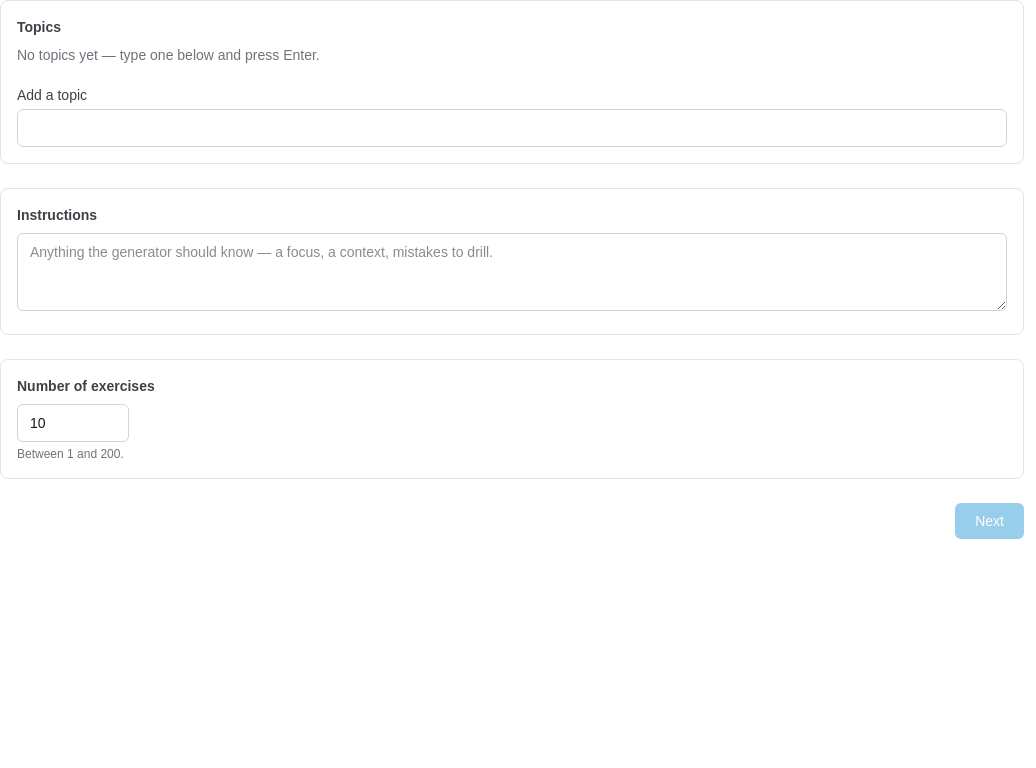
Scenario: WizardWhat › enables next once instructions are typed
Type "focus on dative" into the text box labelled "Instructions" at (512, 272), box [17, 233, 1007, 311]
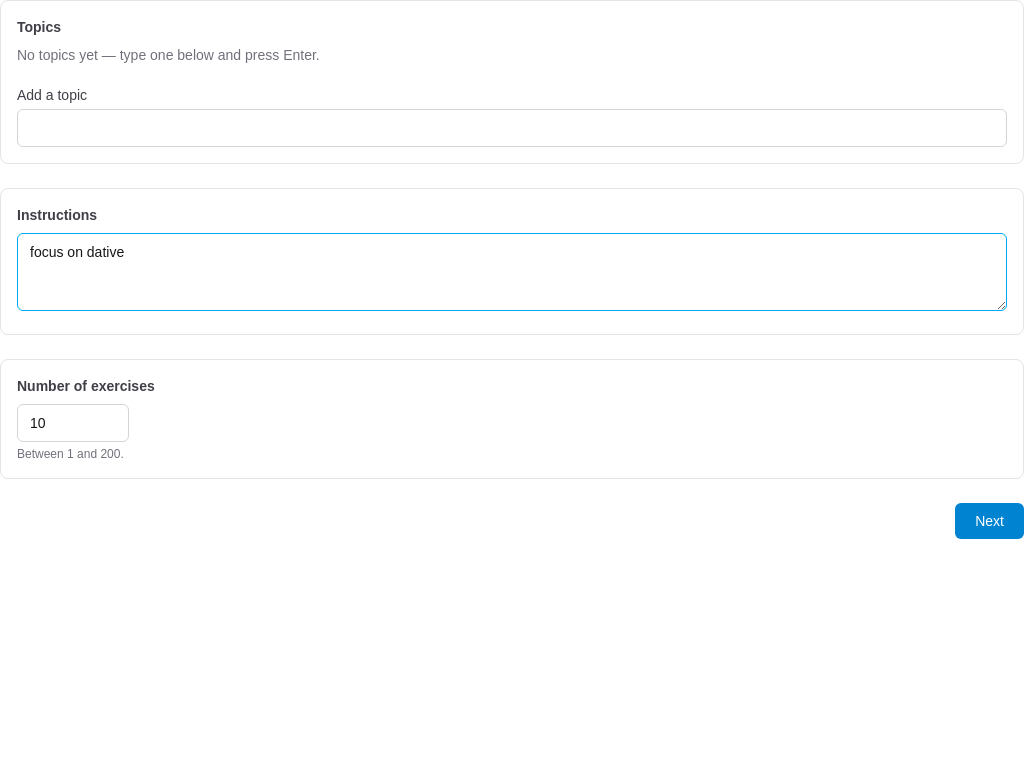
Result: the button "Next" is enabled at [955, 503, 1024, 539]
